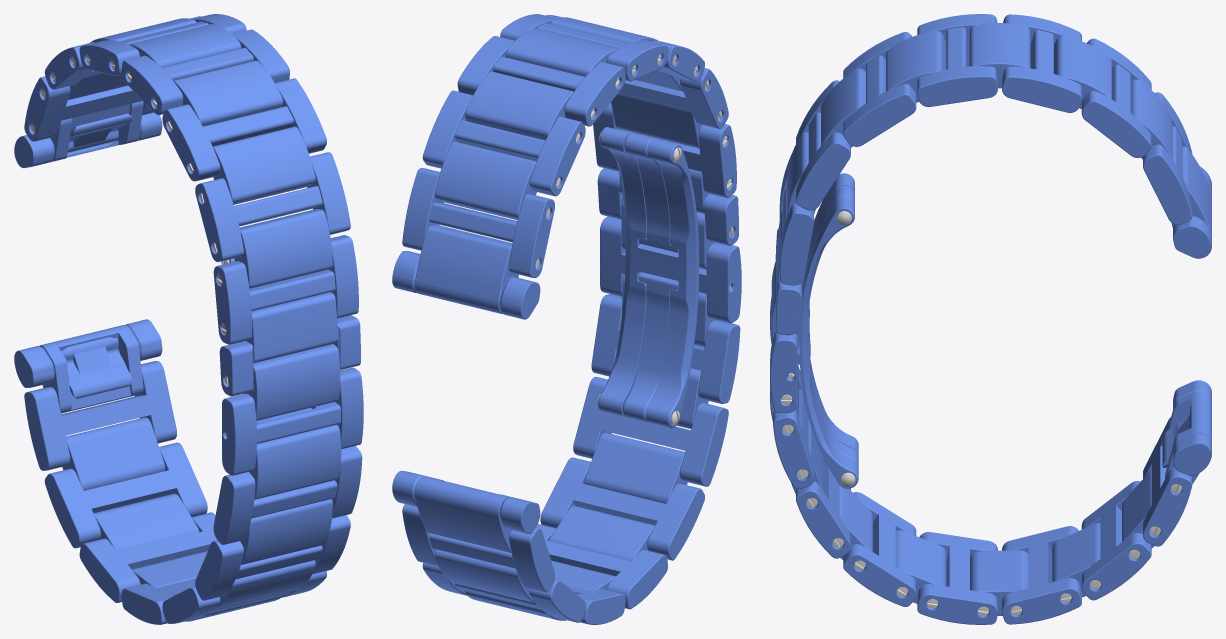
File: Tank_L_Bracelet.fbx
3 views of the same model, side by side, from view 1: azimuth 30°, elevation 25°; view 2: azimuth 150°, elevation 25°; view 3: azimuth 270°, elevation 25° (orthographic).
Visible parts, largest first — view 1: BRep_1.077, BRep_1.145; view 2: BRep_1.077, BRep_1.145; view 3: BRep_1.077, BRep_1.145.
Boxes of the visible parts, x1=… form: BRep_1.077: x1=14, y1=14, x2=363, y2=624; BRep_1.145: x1=31, y1=54, x2=229, y2=436; BRep_1.077: x1=392, y1=14, x2=741, y2=624; BRep_1.145: x1=535, y1=54, x2=733, y2=425; BRep_1.077: x1=770, y1=14, x2=1211, y2=624; BRep_1.145: x1=781, y1=211, x2=1182, y2=616.
Bounding box in the file's own units: 190 × 776 × 562.
